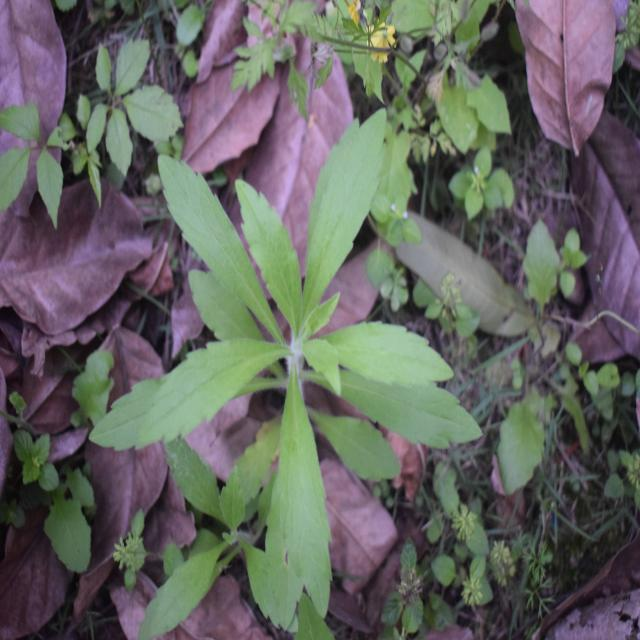horseweed: (137, 128, 450, 538)
